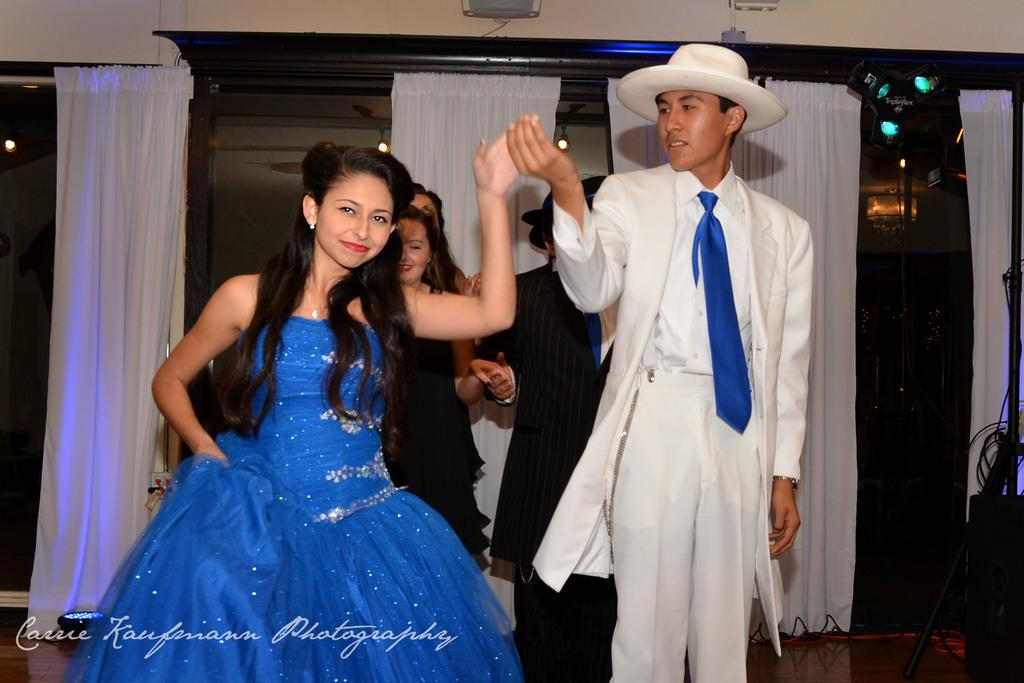Hat: (621, 42, 793, 140)
